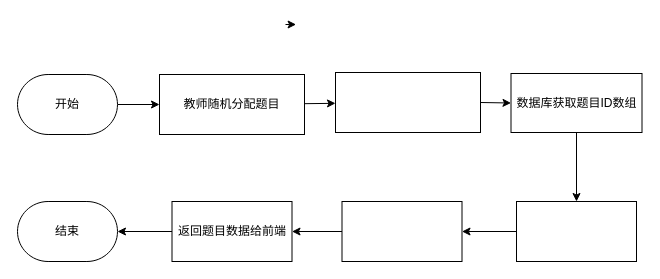
This 660x279 diagram has some shape labels left out. The shapes that lost their labels are listed below. From the top down, each one's centre as x and y in pixels, then its label:
At (407,102): "上传题目数量".
At (401,231): "截取指定题目数量题目".
At (576,231): "打乱题目ID数组".
